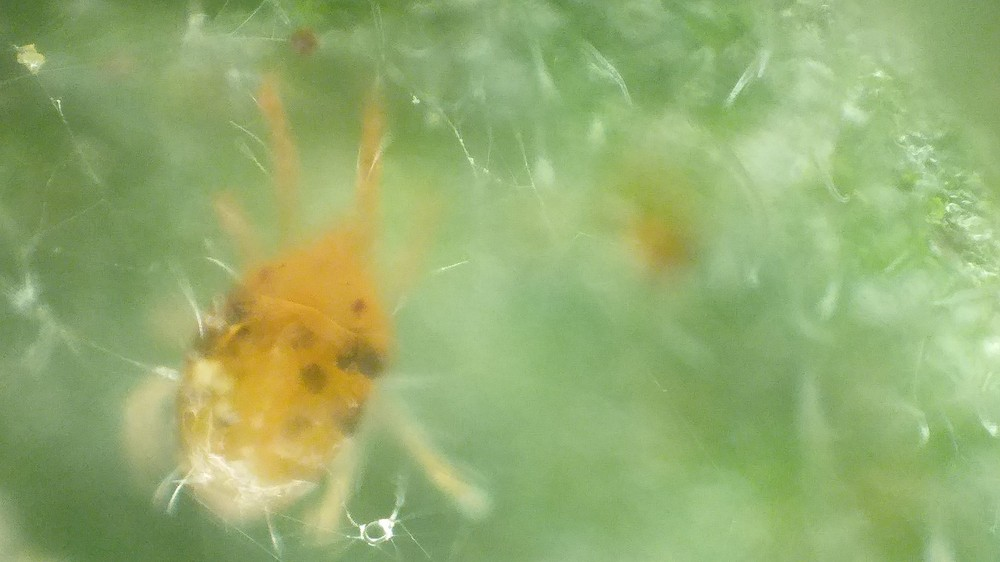Aracnido Rojo: (138, 83, 512, 549)
